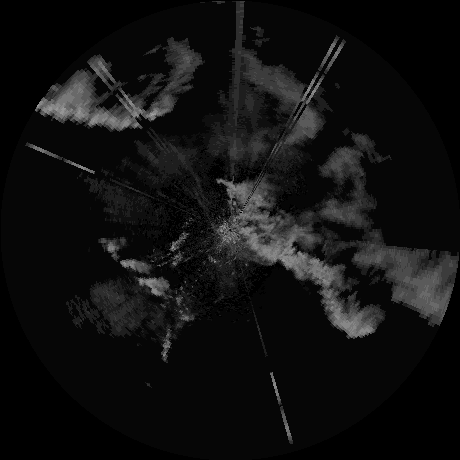frontgust: (163, 137, 219, 228)
